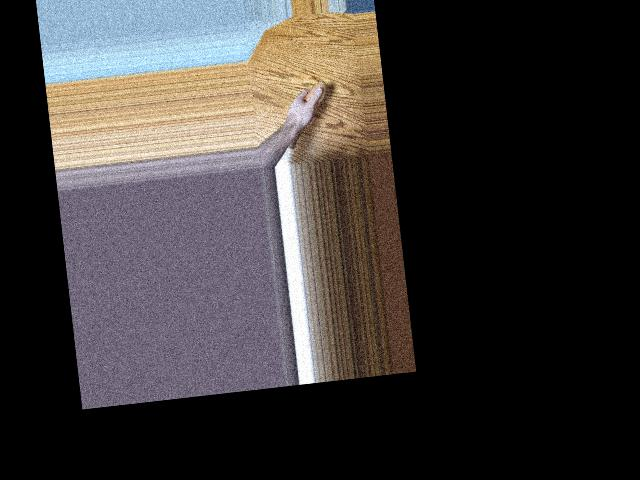sweet_potato: (282, 79, 334, 150)
